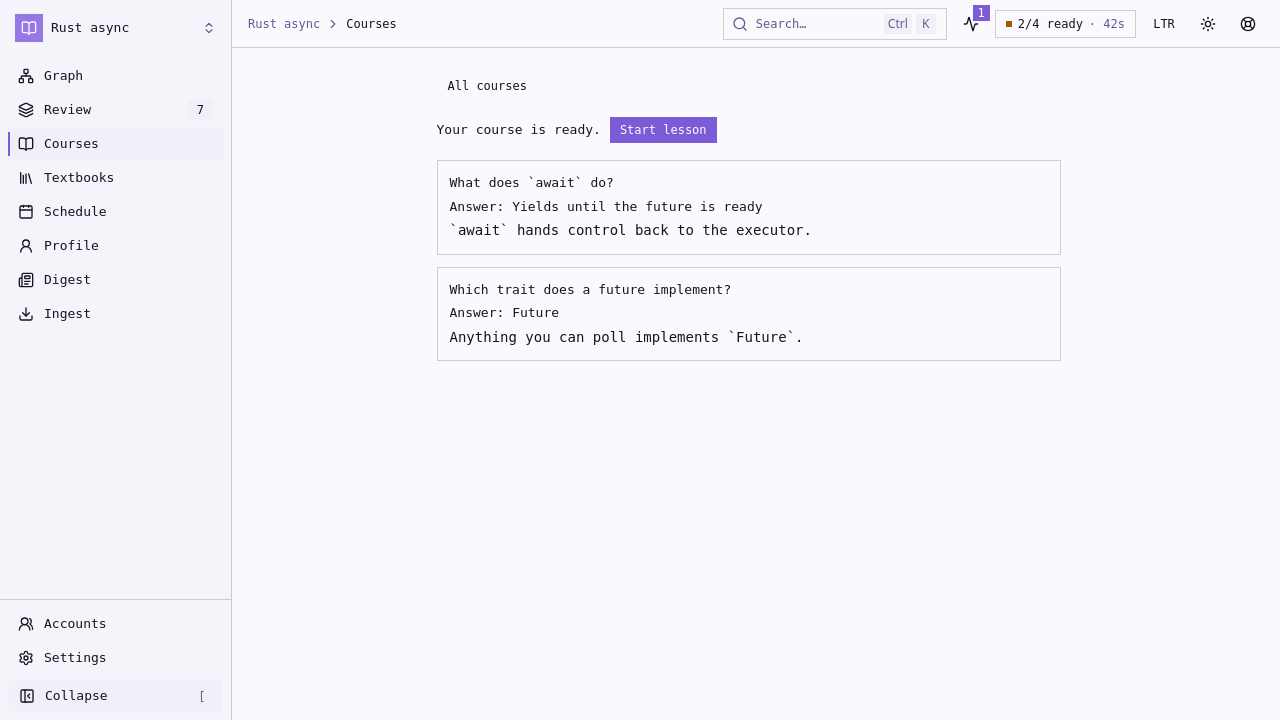
Method lesson bout › asks how you slept first, then the ready gate, before any step is requested
Click the button "Start lesson". click: point(663, 130)
box: [609,116,718,144]
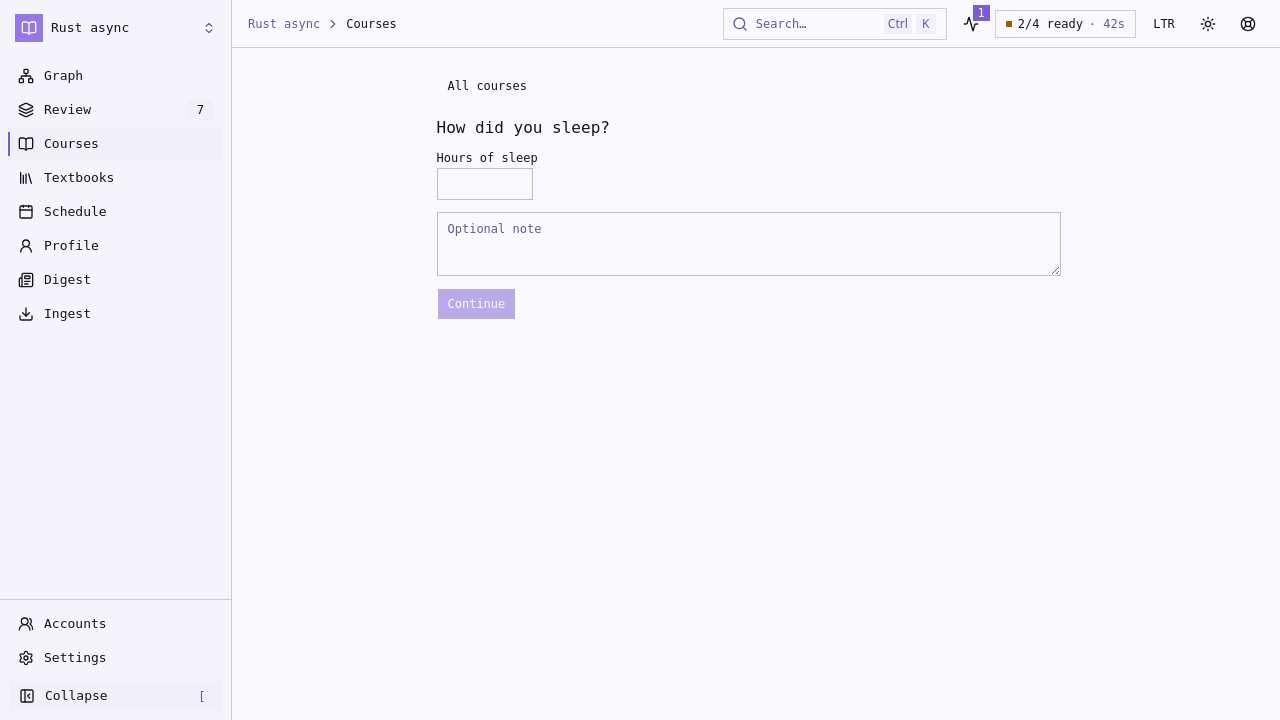
Check: the element with test id "step-checkin" is shown, box [436,116,1060,320]
Type "8" into the number field labelled "Hours of sleep". click: point(484, 184)
box: [436,168,532,200]
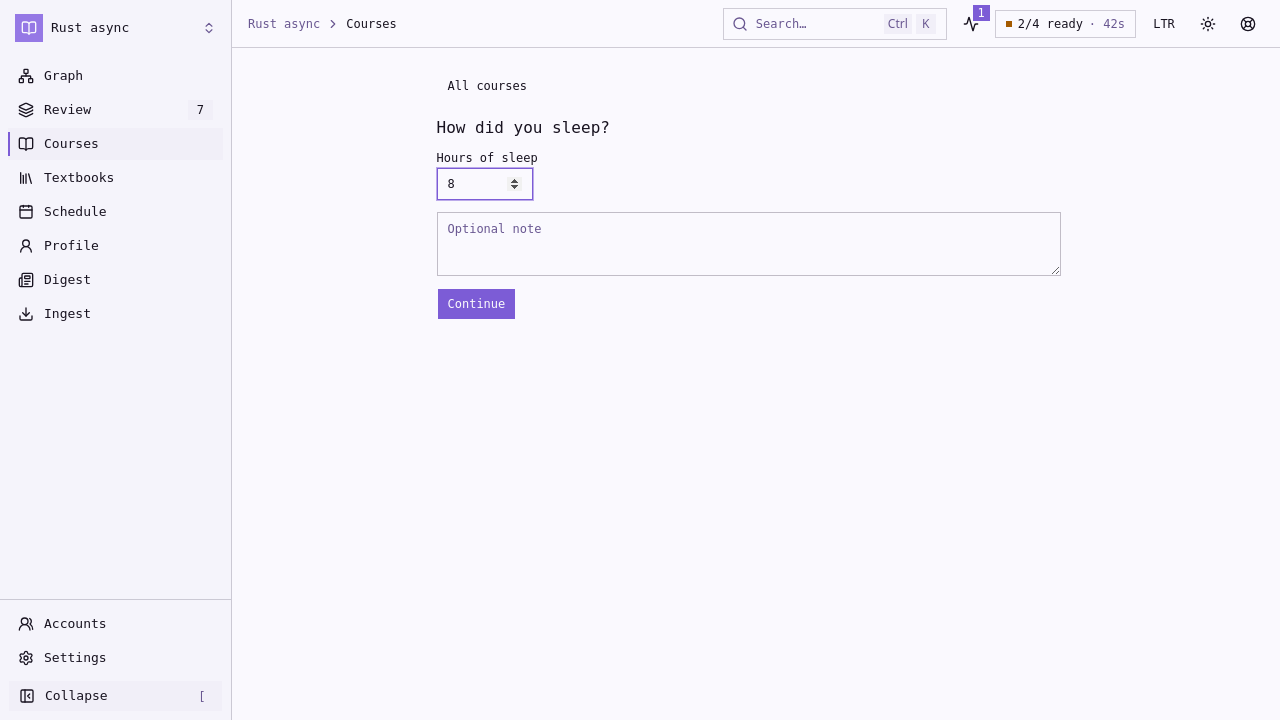
Click the button "Continue". click: point(476, 304)
box: [436,288,516,320]
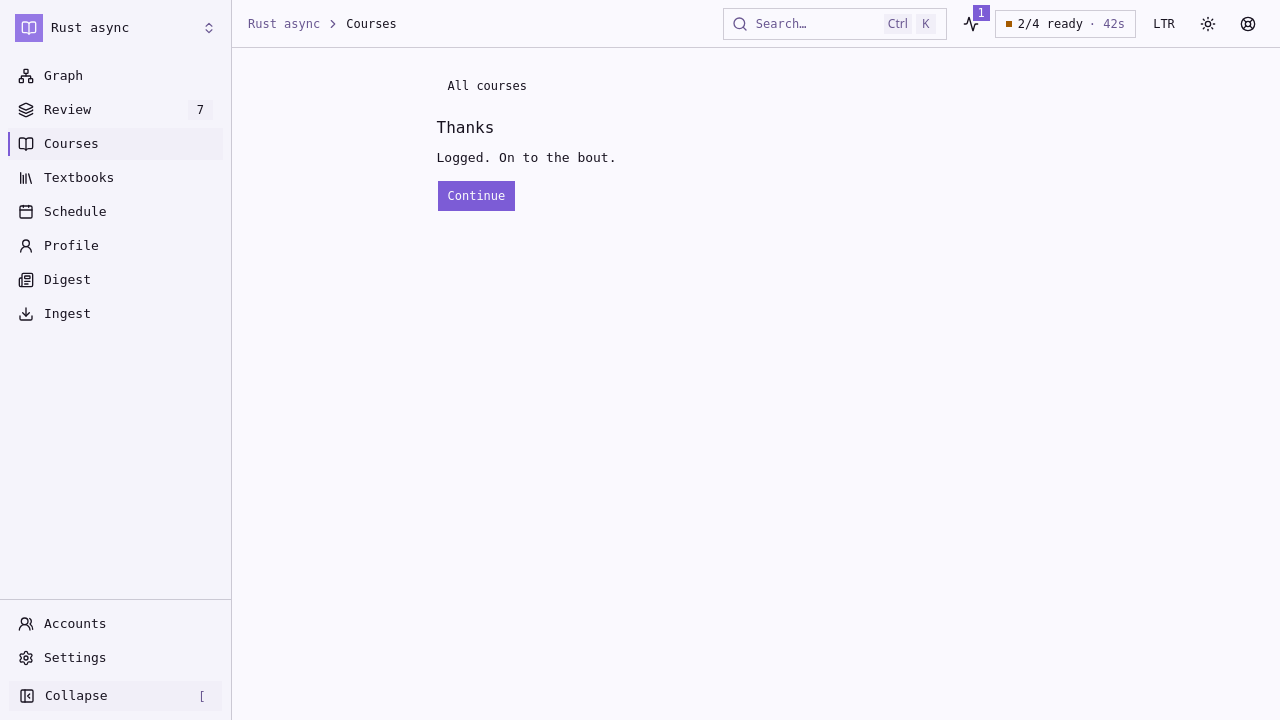
Click the button "Continue". click: point(476, 196)
box: [436,180,516,212]
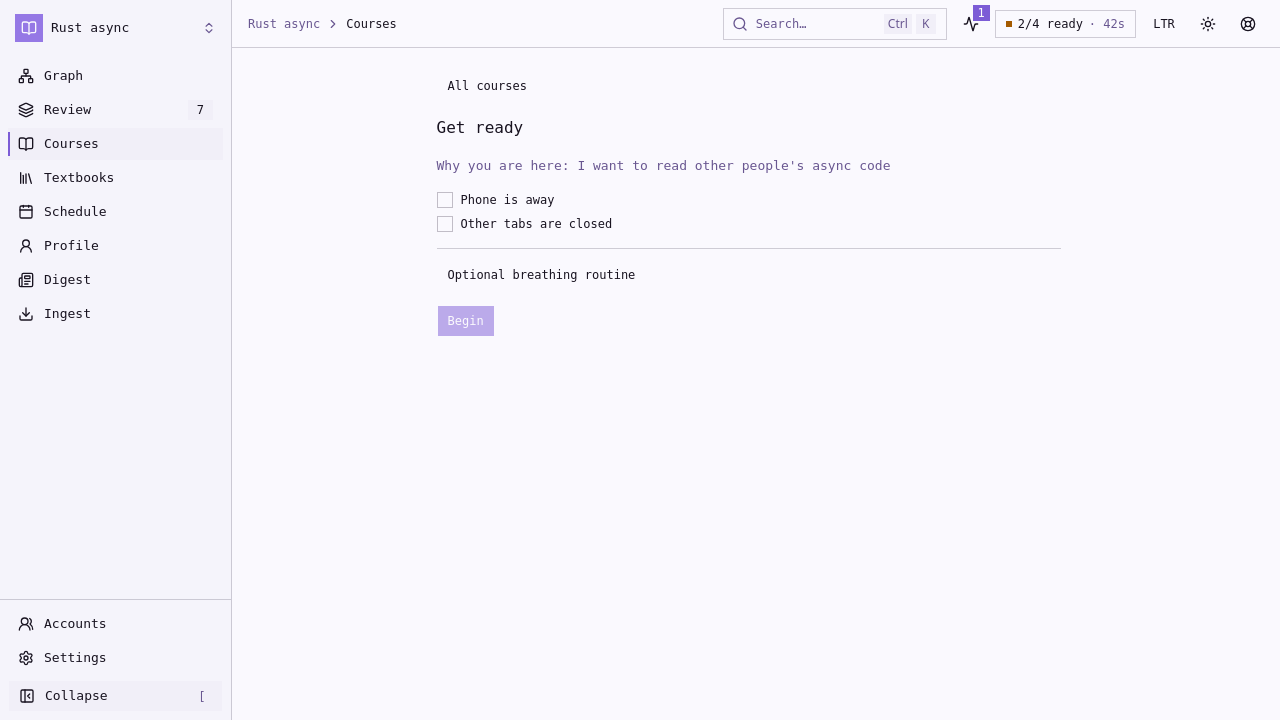
Check: the button "Begin" is disabled, box [436,304,495,336]
